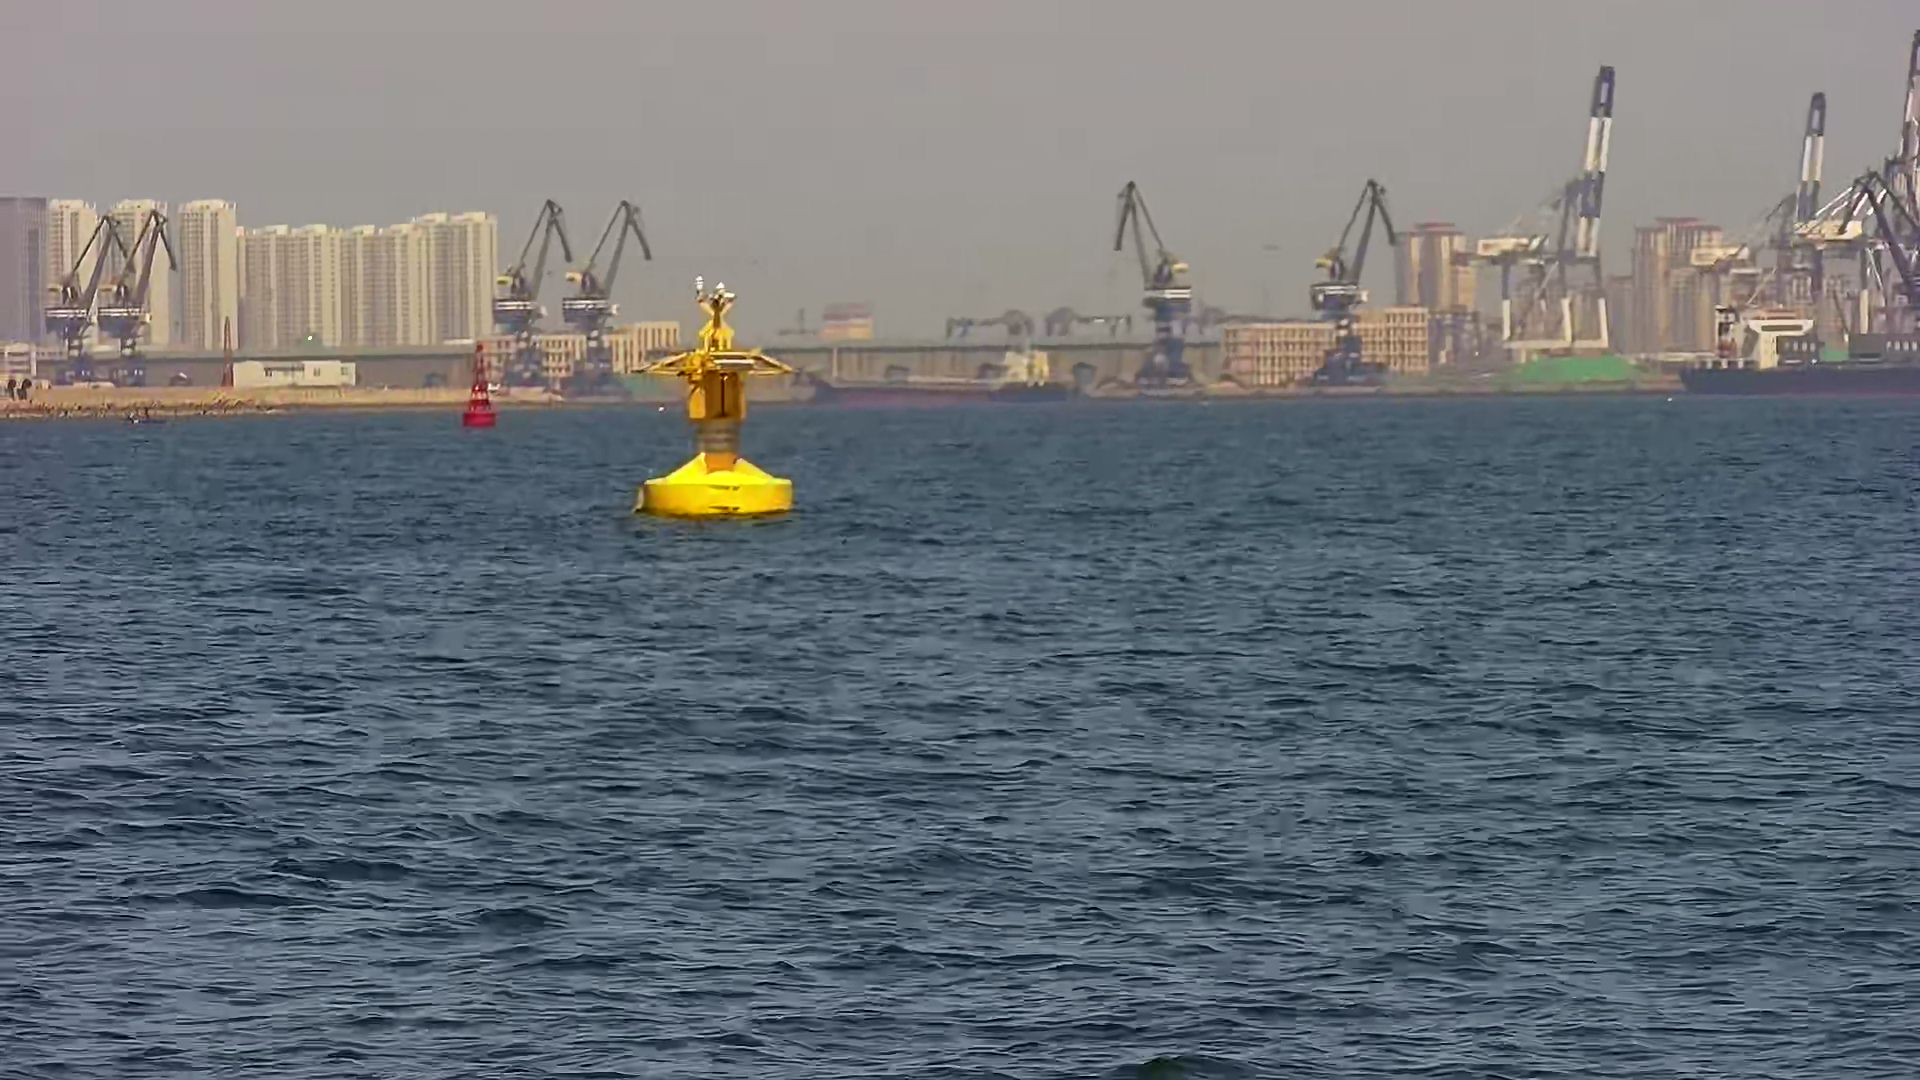buoy: (644, 289, 795, 513), (463, 349, 496, 427)
ship: (1688, 313, 1920, 392)
